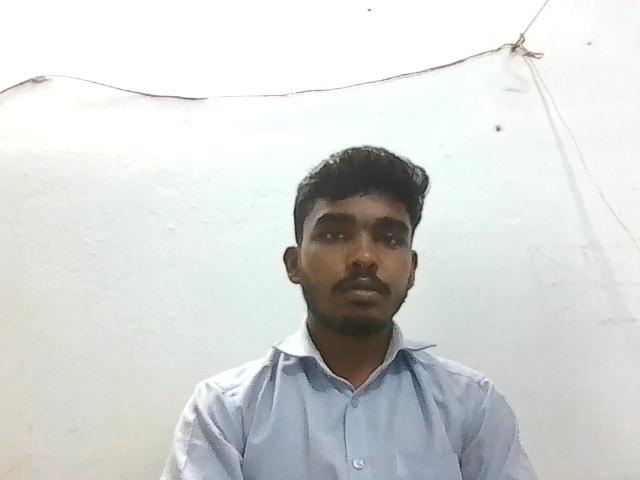real: (290, 144, 431, 344)
